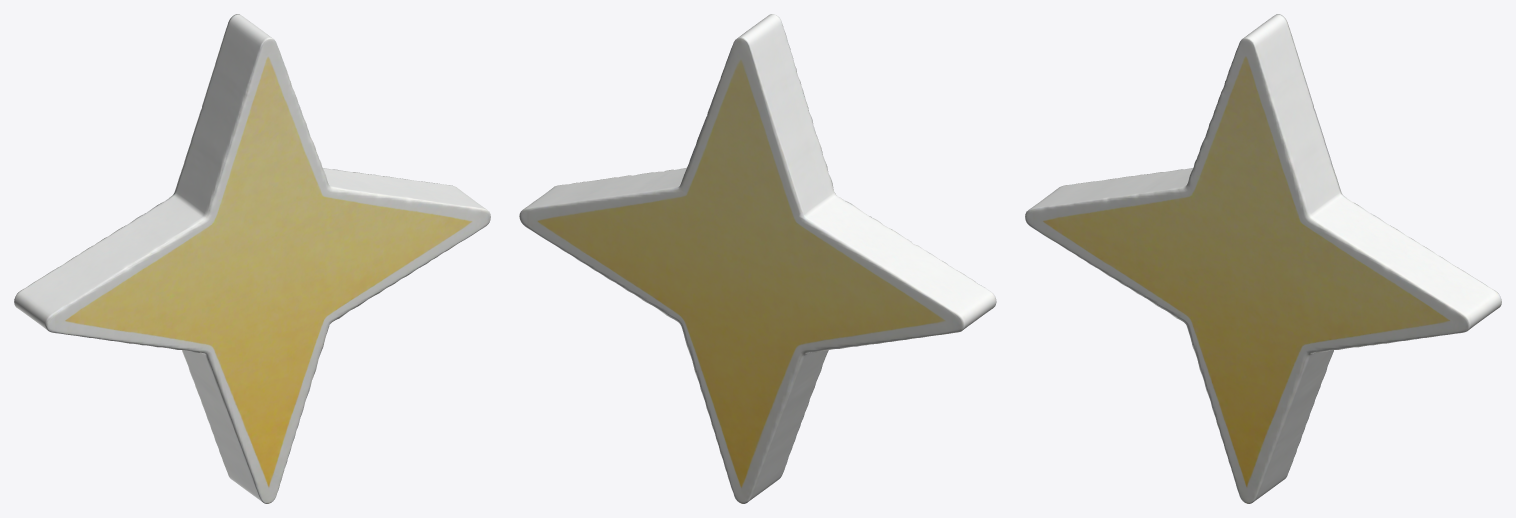
The model's file is Star_Glow_0324055909.fbx.
3 renders of one model, left to right at view 1: azimuth 30°, elevation 25°; view 2: azimuth 150°, elevation 25°; view 3: azimuth 330°, elevation 25°, orthographic.
Parts seen in each view (by area): view 1: Mesh1; view 2: Mesh1; view 3: Mesh1.
Boxes of the visible parts, bbox=[...] form: Mesh1: bbox=[14, 14, 490, 503]; Mesh1: bbox=[519, 14, 996, 503]; Mesh1: bbox=[1025, 14, 1501, 503].
Bounding box in the file's own units: 200 × 201 × 25.91.
1 material, 1 textured.
